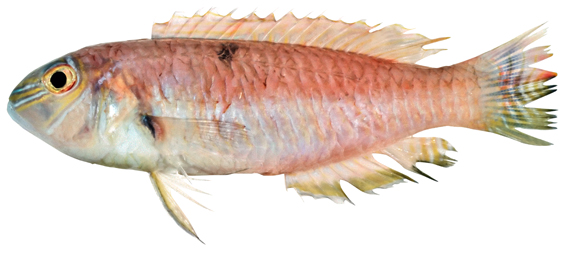fish: (6, 7, 559, 244)
